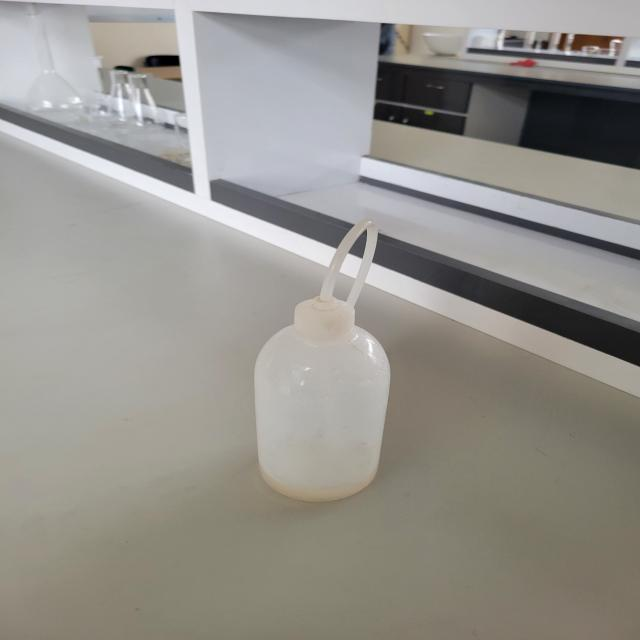Wash_Bottle: (174, 189, 426, 551)
